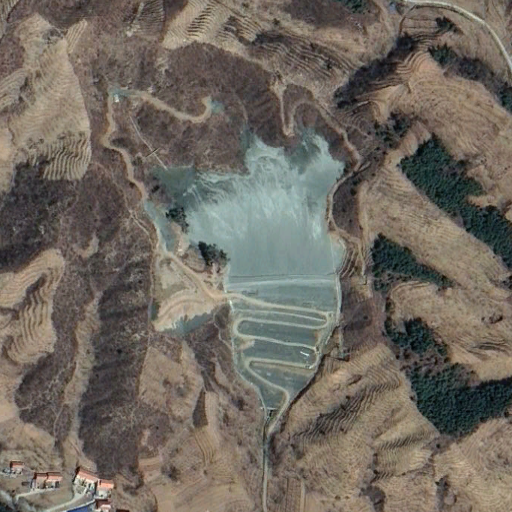tp: (146, 120, 348, 418)
